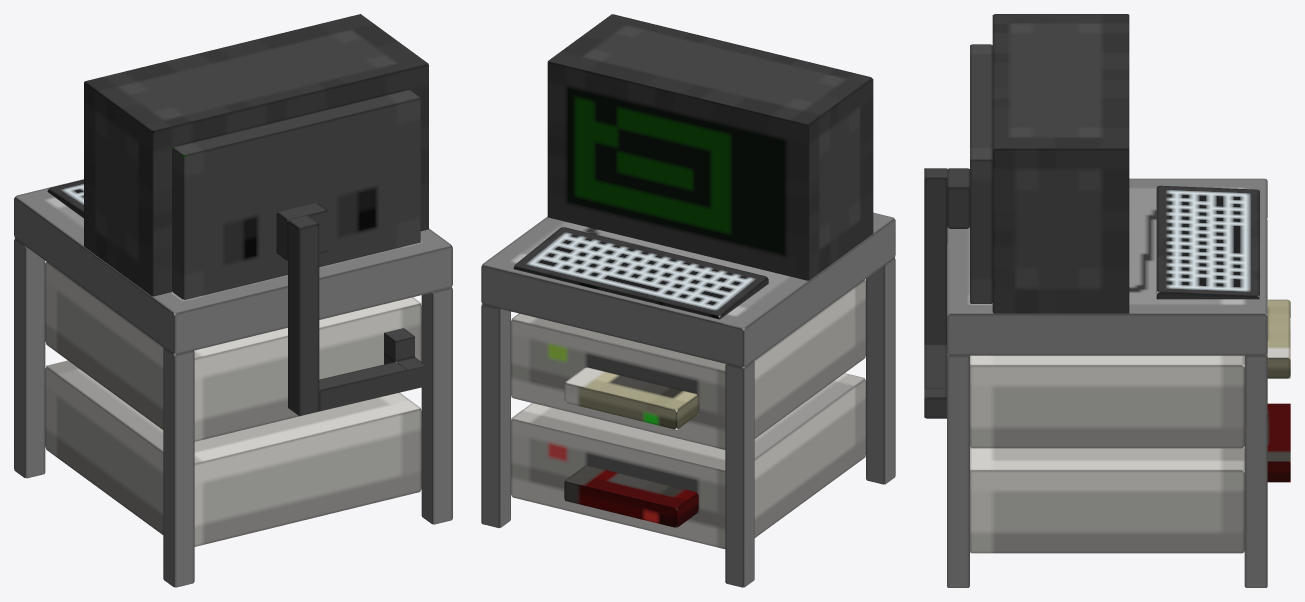
The model's file is station_drive_terminal.obj.
The picture shows the model from 3 angles, left to right: view 1: azimuth 30°, elevation 25°; view 2: azimuth 150°, elevation 25°; view 3: azimuth 270°, elevation 25°; orthographic projection. The views are drawn at different scales.
Visible parts, largest first — view 1: monitor, server_bottom, server_top, rack_top, cable, base.047, base.046, base.049, cube; view 2: monitor, server_bottom, server_top, rack_top, cube, drive, base.049, base.048, base.047; view 3: monitor, server_bottom, server_top, rack_top, cube, cable, base.048, base.046, drive.
Part boxes in pixels (left/top/right/bottom): monitor: left=84, top=14, right=428, bottom=299; server_bottom: left=45, top=360, right=421, bottom=546; server_top: left=45, top=261, right=421, bottom=441; rack_top: left=14, top=179, right=452, bottom=355; cable: left=276, top=202, right=426, bottom=416; base.047: left=163, top=348, right=194, bottom=587; base.046: left=421, top=287, right=452, bottom=524; base.049: left=14, top=238, right=45, bottom=478; cube: left=47, top=179, right=83, bottom=218; monitor: left=547, top=14, right=873, bottom=280; server_bottom: left=511, top=373, right=865, bottom=548; server_top: left=511, top=280, right=865, bottom=449; rack_top: left=481, top=212, right=895, bottom=368; cube: left=513, top=227, right=768, bottom=323; drive: left=564, top=367, right=698, bottom=527; base.049: left=725, top=361, right=754, bottom=587; base.048: left=481, top=304, right=510, bottom=527; base.047: left=866, top=258, right=895, bottom=484; monitor: left=970, top=14, right=1129, bottom=313; server_bottom: left=970, top=448, right=1244, bottom=553; server_top: left=970, top=355, right=1244, bottom=448; rack_top: left=947, top=178, right=1267, bottom=355; cube: left=1156, top=185, right=1259, bottom=299; cable: left=924, top=168, right=969, bottom=418; base.048: left=1244, top=355, right=1267, bottom=587; base.046: left=947, top=355, right=969, bottom=587; drive: left=1267, top=299, right=1290, bottom=482.
Bounding box in the file's own units: 0.8751 × 1.32 × 0.9992.
